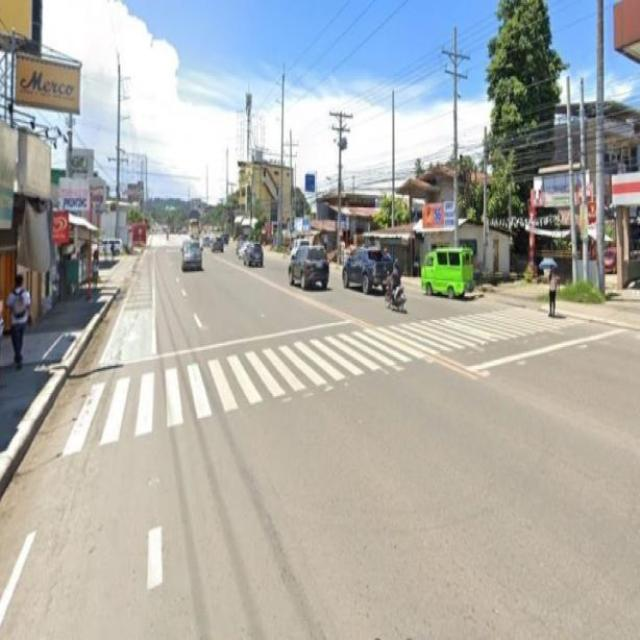pedestrian lane: (62, 306, 587, 454)
